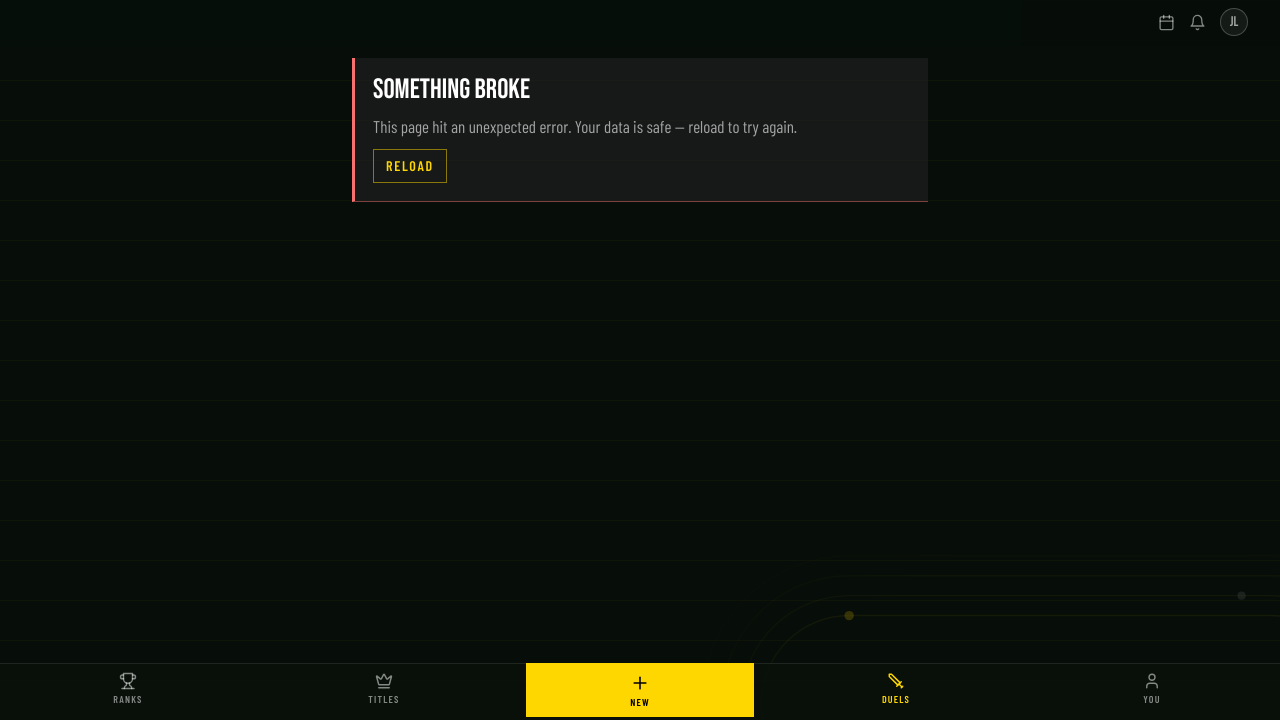
ShellErrorBoundary: ett panelfel ger aldrig vit skärm › en ny sida börjar om utan fel (navigering ur felläget)
Expected: the heading "Something broke" is shown, [373,76,530,104]
Click the link "Ranks".
click(128, 688)  # box [113,672,143,705]
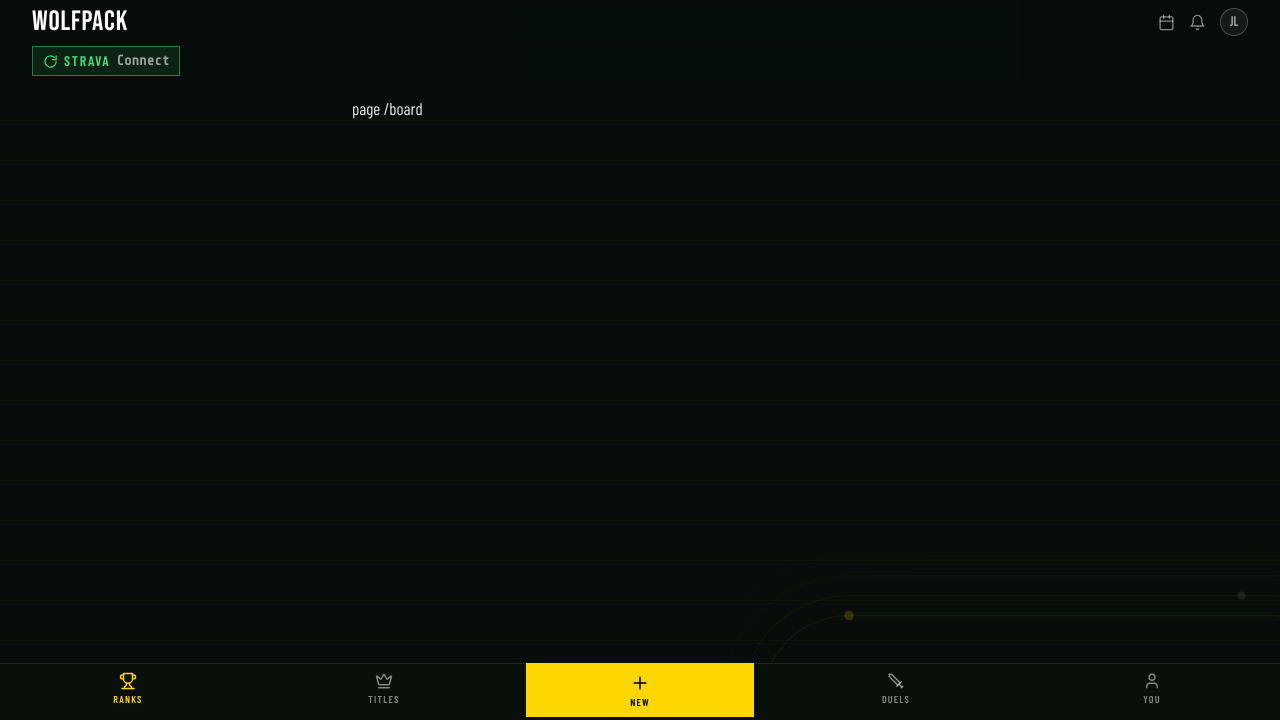
Now the text "page /board" is shown, box [352,98,423,118]
Now the heading "Something broke" is gone
